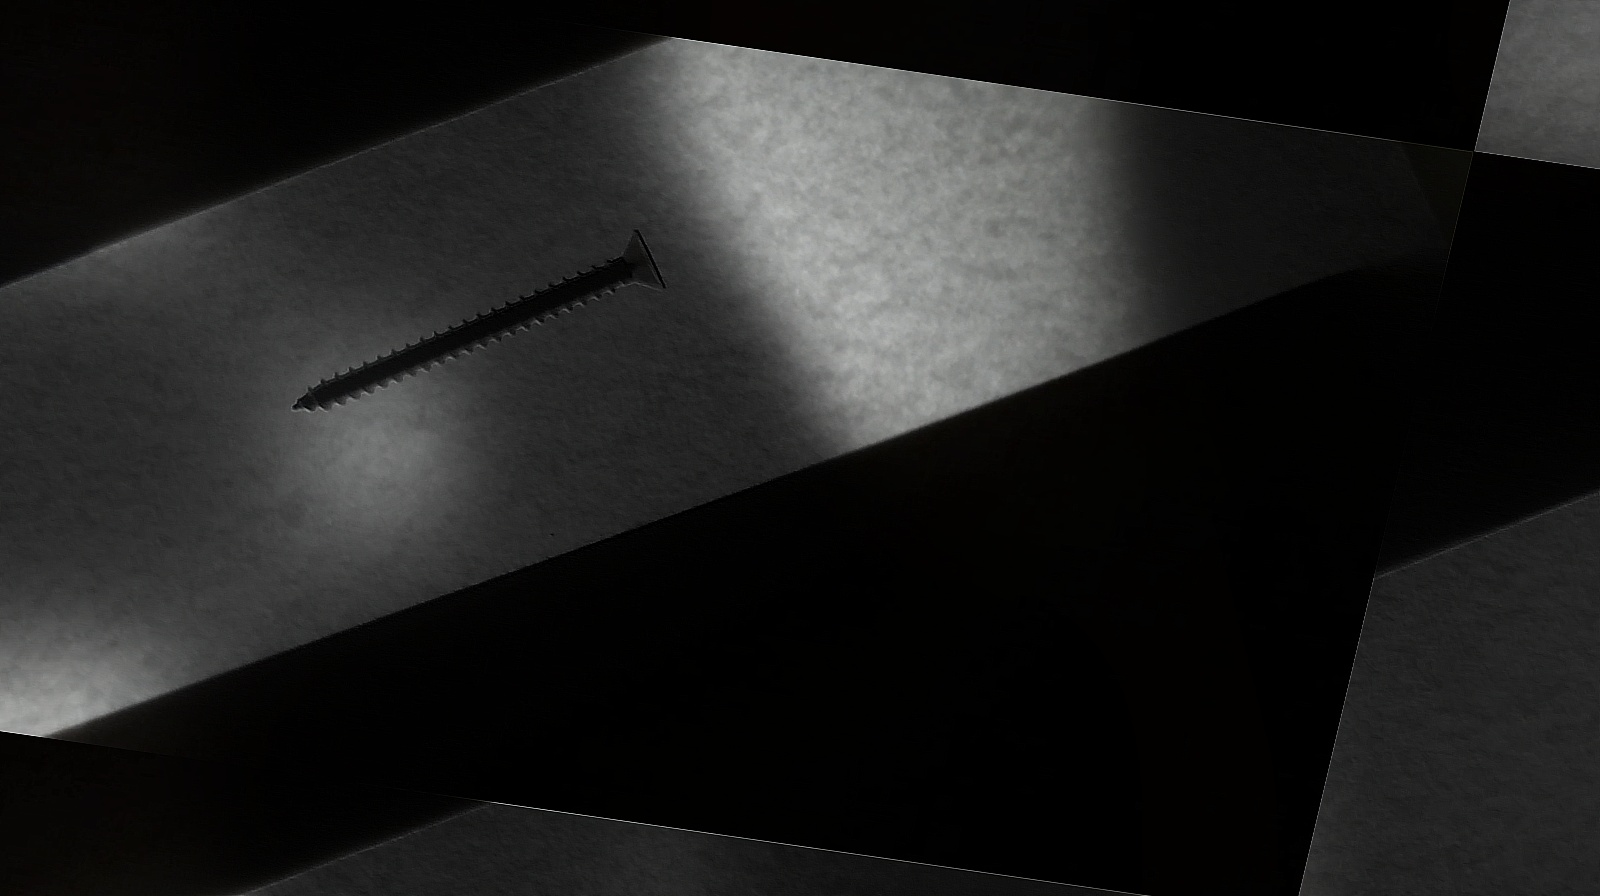S002: (271, 170, 695, 468)
